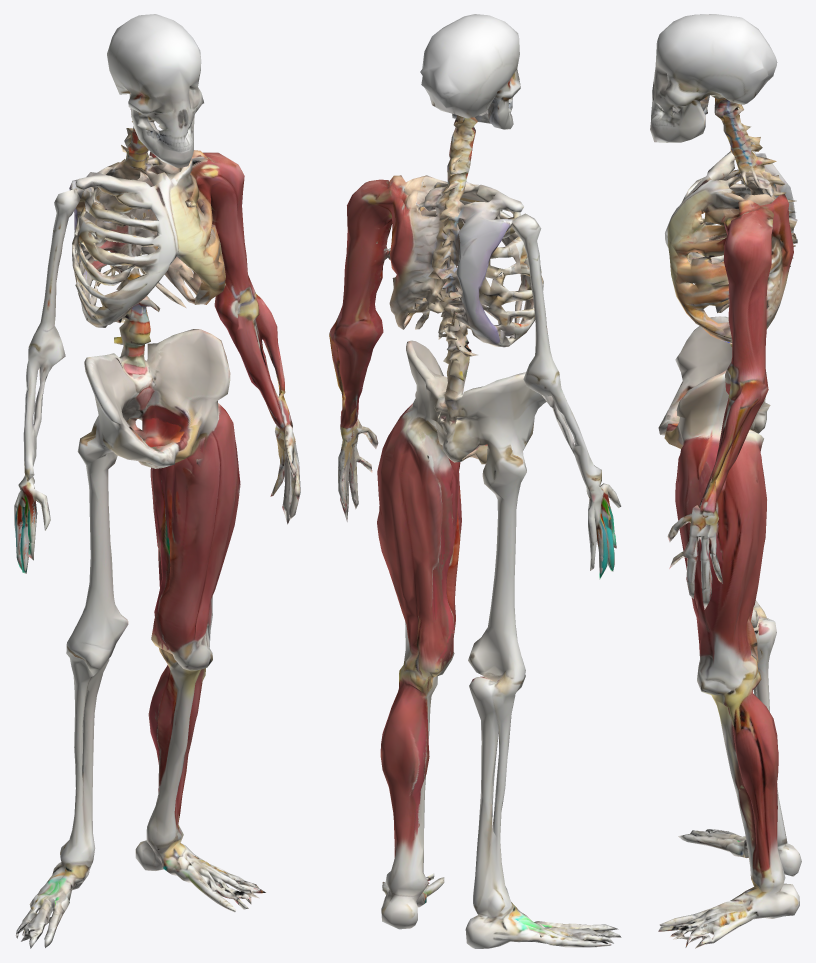
The model's file is Huma 3d 2.0.glb.
3 renders of one model, left to right at view 1: azimuth 30°, elevation 25°; view 2: azimuth 150°, elevation 25°; view 3: azimuth 270°, elevation 25°, orthographic.
Bounding box in the file's own units: 0.6472 × 2 × 0.3112.
Materials: 1 (1 with a texture image).
